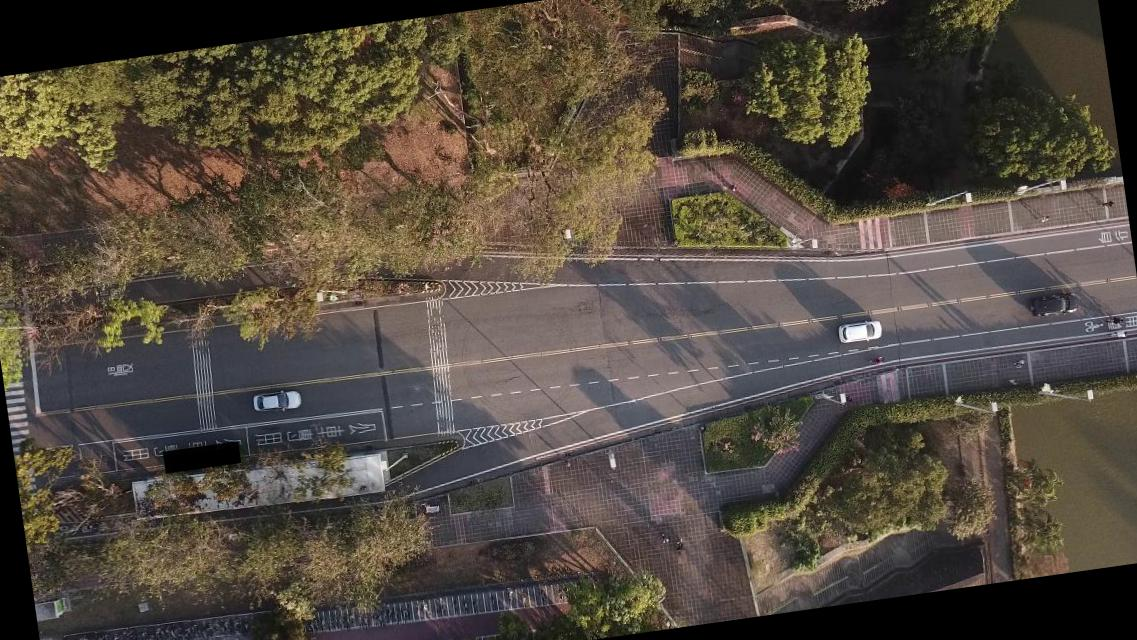vehicle: (252, 388, 302, 416), (836, 318, 883, 346), (1028, 292, 1078, 318)
